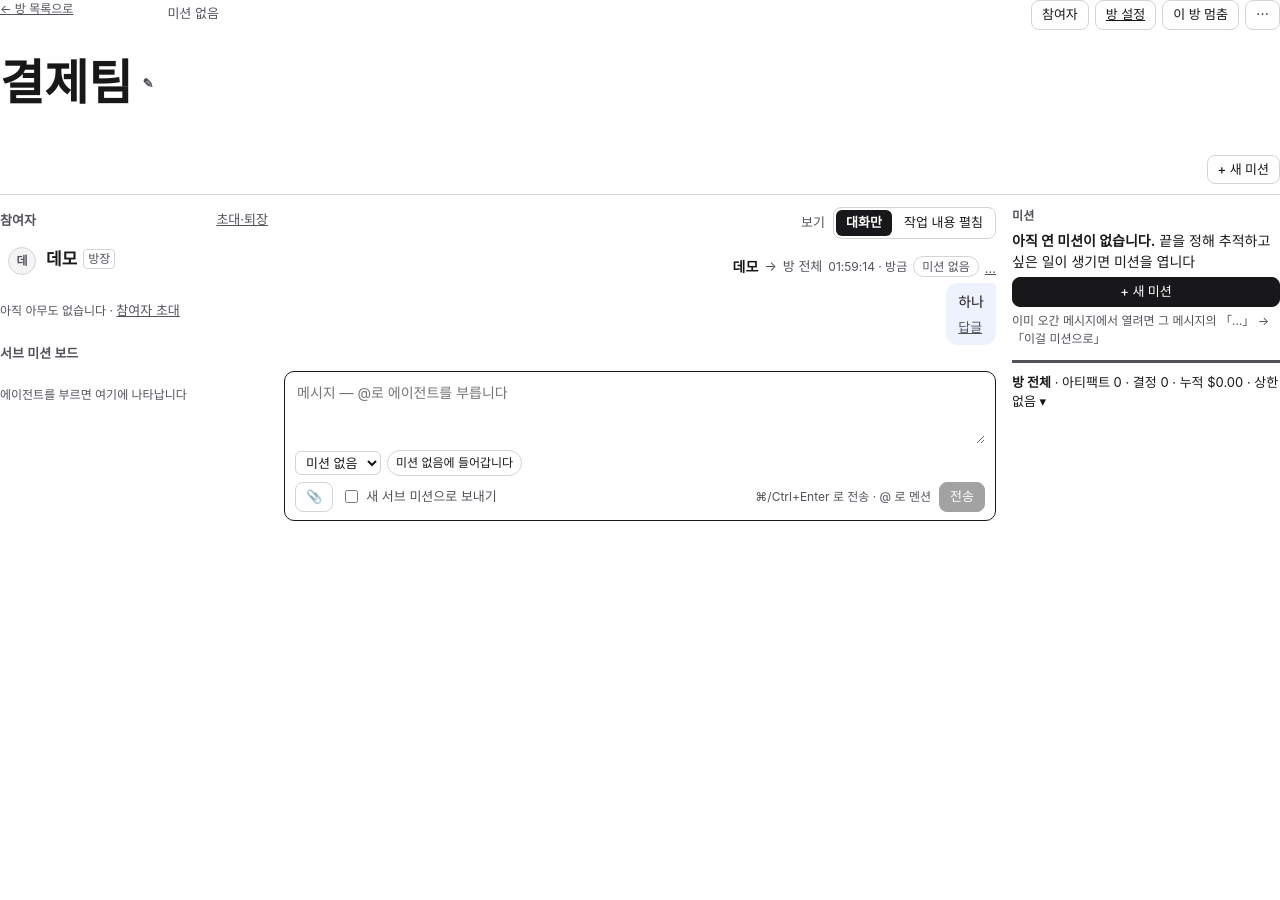
Test: S7 — T-R2-W4b › 집기를 그만두면 다이얼로그로 돌아간다(범위는 비어 「정리」 비활성)
Expected: the text "하나" is shown, [958,291,984,312]
Click the button with test id "room-more" at (1262, 15), box [1245,0,1279,30]
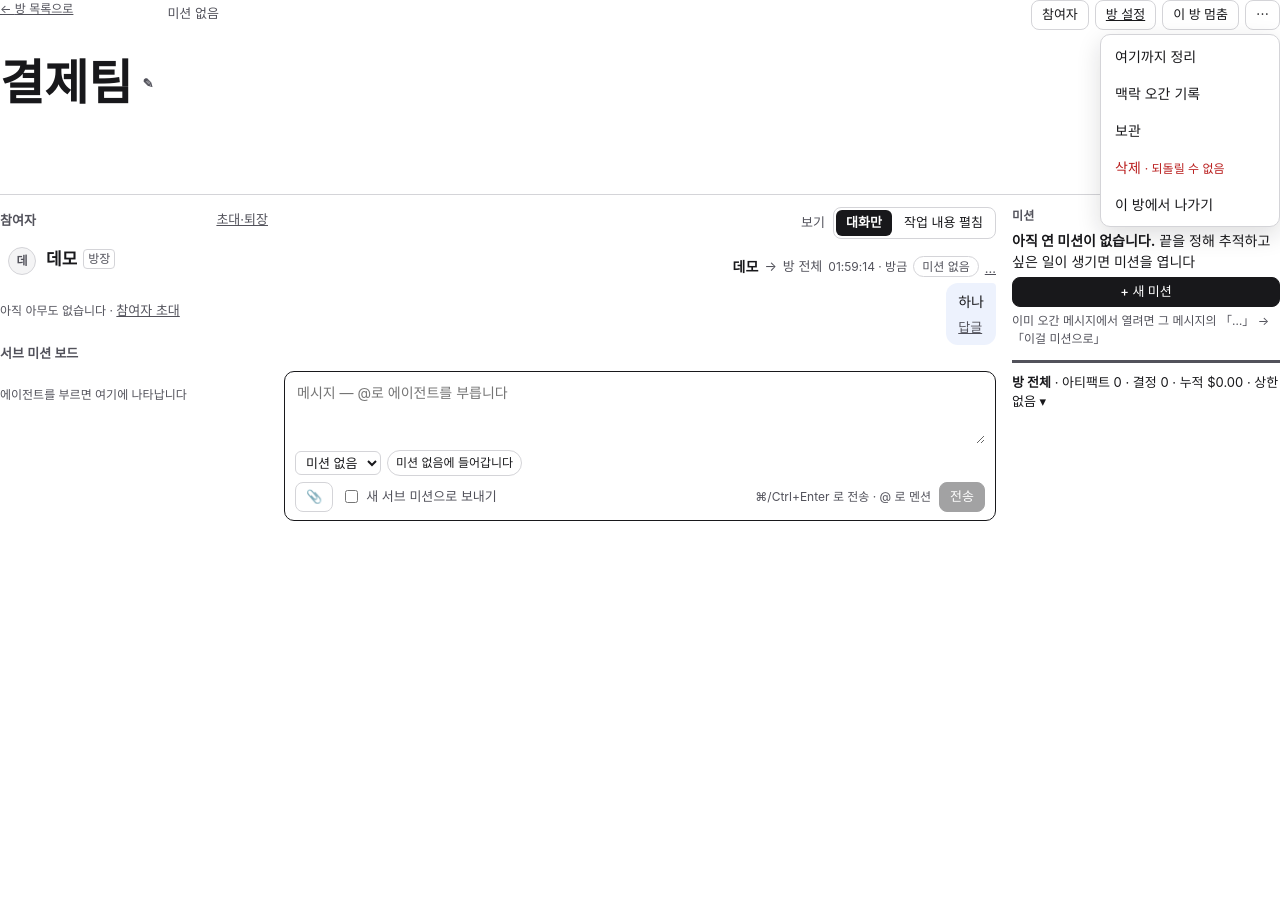
Click the menu item with test id "room-menu-summarize" at (1190, 56), box [1105,38,1275,74]
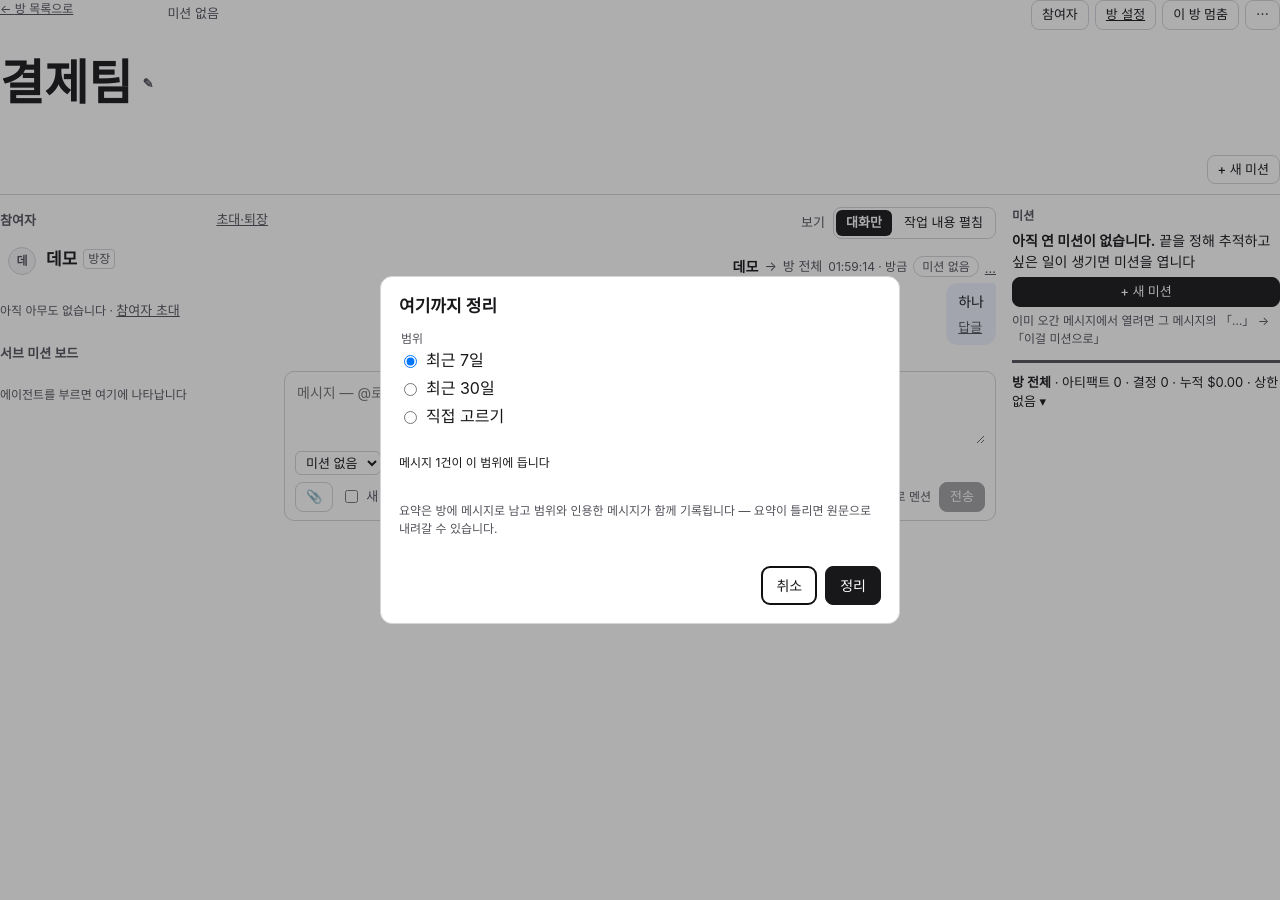
Click the radio button with test id "summarize-pick" at (410, 418), box [404,411,417,424]
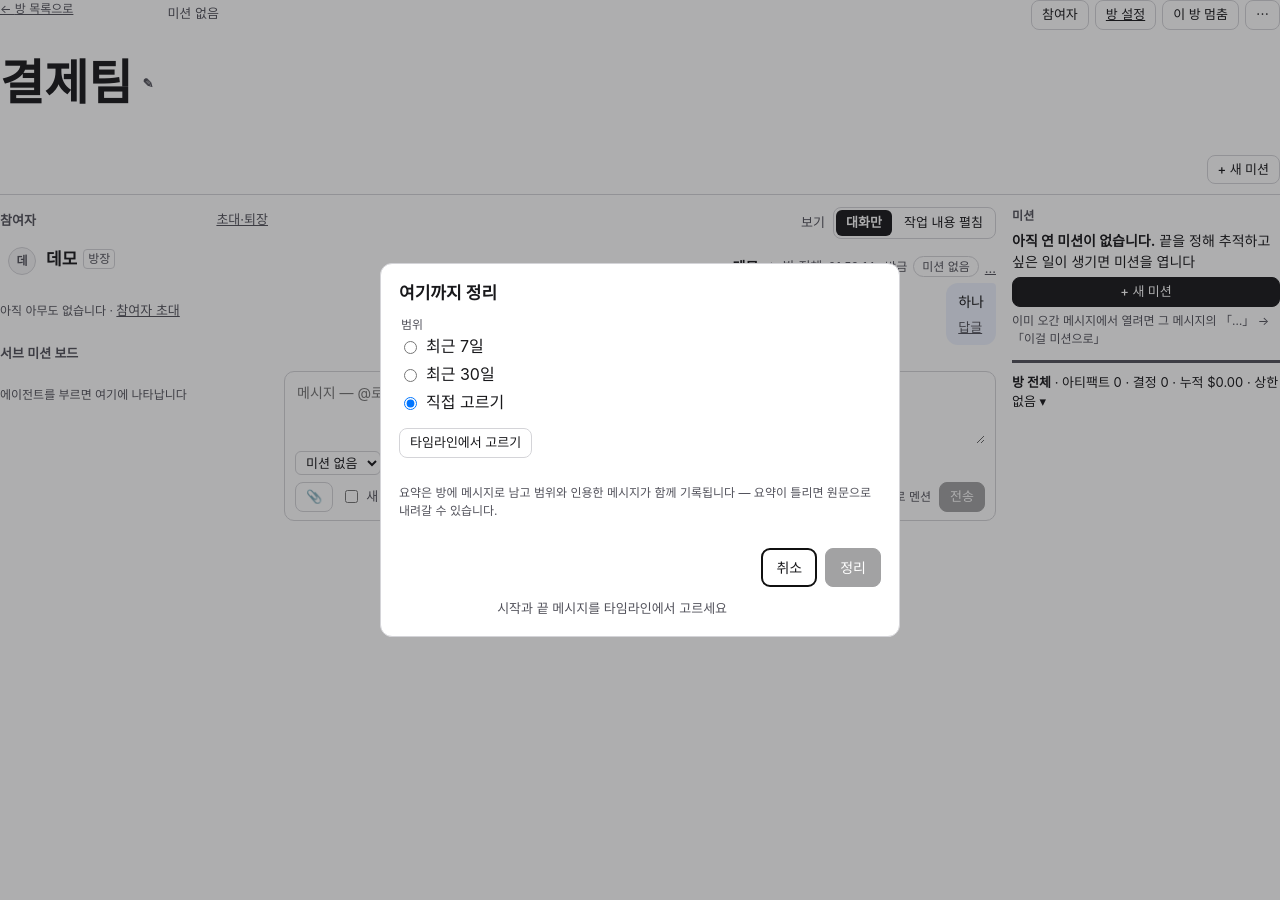
Click the button with test id "summarize-pick-start" at (466, 443), box [399,428,532,458]
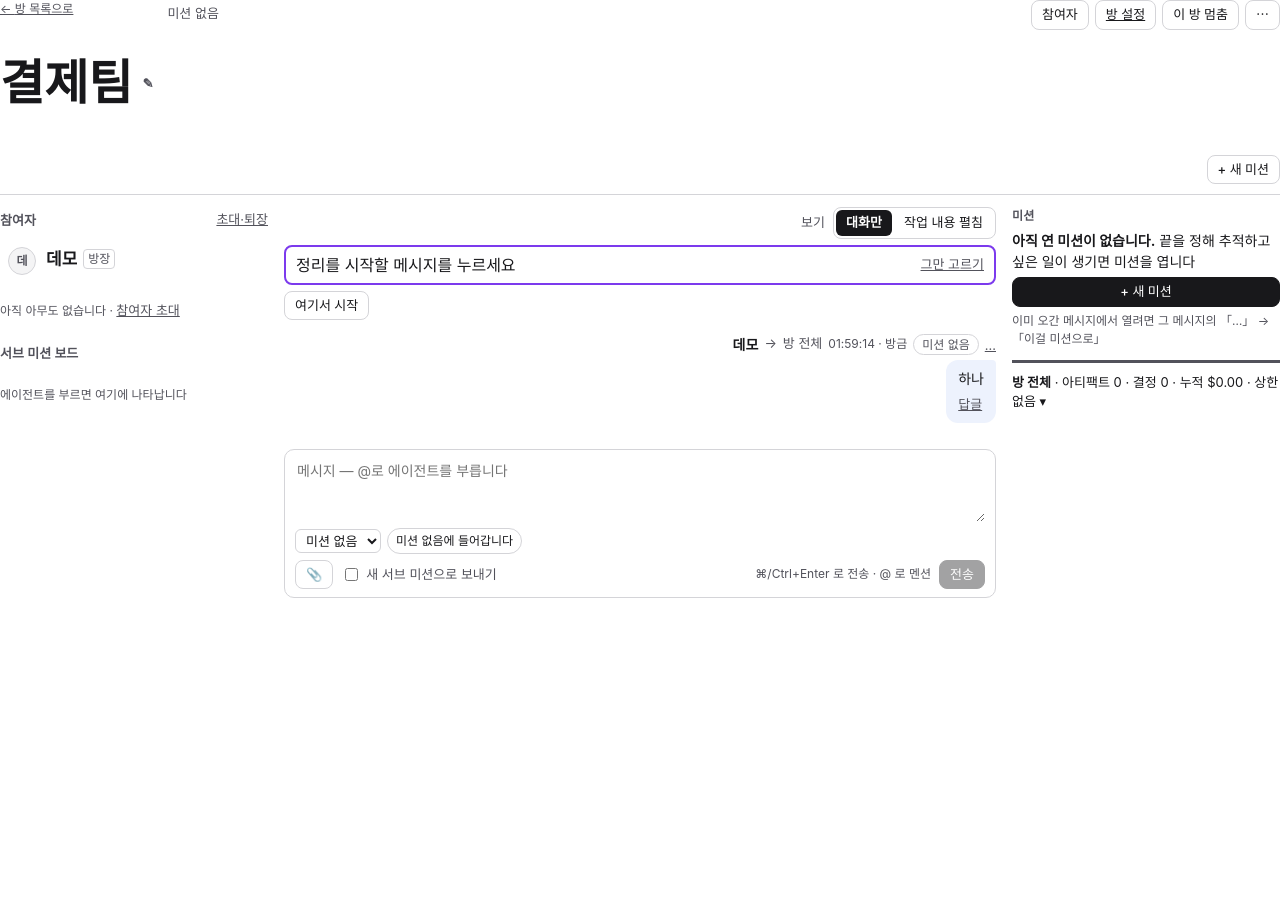
Click the button with test id "pick-cancel" at (952, 265), box [920,255,984,274]
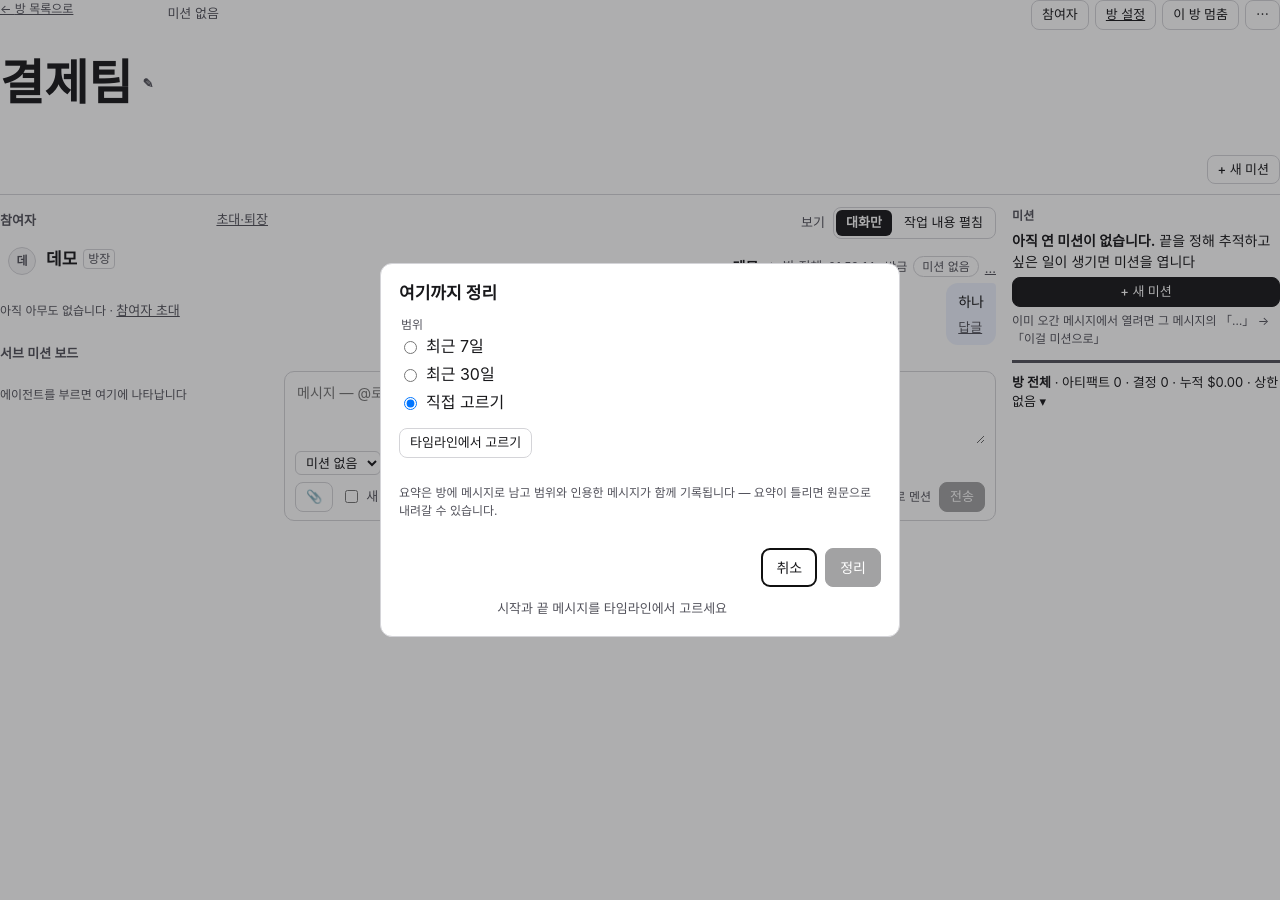
Now the dialog with test id "summarize-dialog" is shown, box [380,262,900,637]
Now the button with test id "summarize-dialog-confirm" is disabled, box [825,548,881,587]
